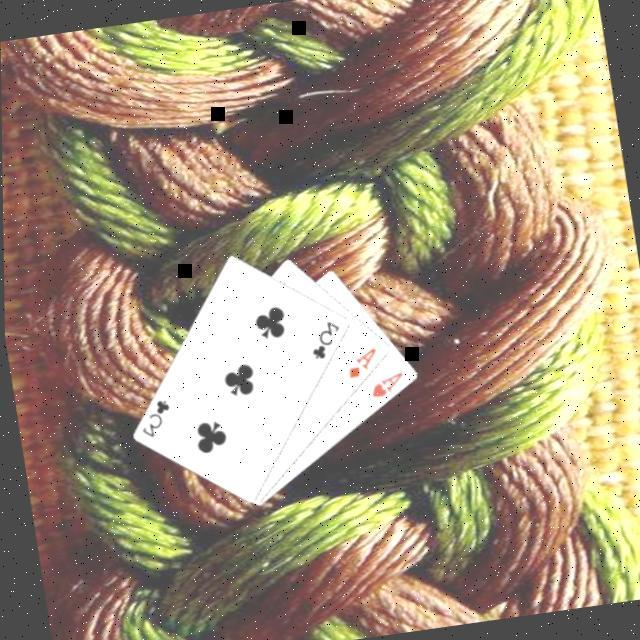3C: (304, 318, 348, 365), (134, 396, 177, 444)
AD: (342, 344, 382, 384)
AH: (365, 369, 410, 404)
